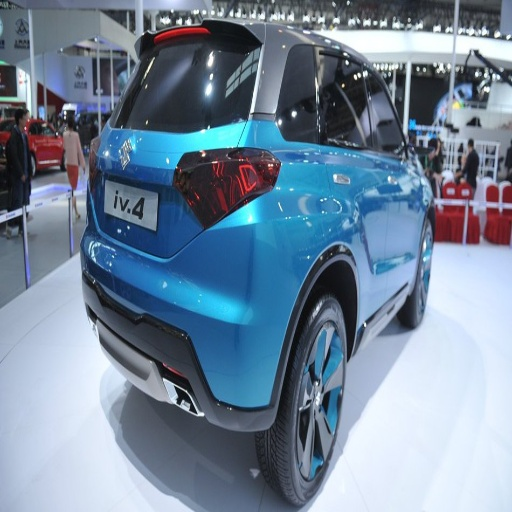back_bumper: (83, 194, 308, 431)
back_right_door: (358, 206, 389, 313), (333, 59, 369, 117)
tailgate: (95, 190, 189, 257)
trunk: (101, 129, 236, 246), (329, 161, 433, 227)
